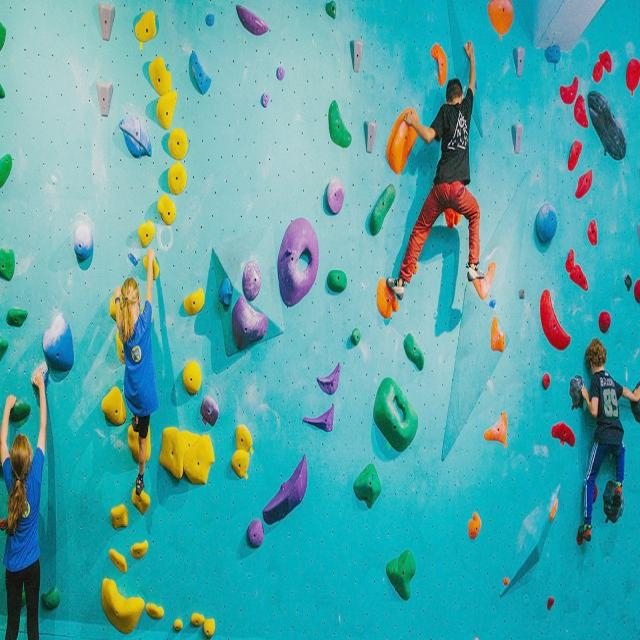blue: (42, 308, 83, 387), (115, 107, 155, 166), (60, 213, 102, 267), (185, 43, 214, 102), (200, 8, 219, 30)
green: (366, 368, 421, 456), (379, 544, 431, 614), (348, 456, 387, 513), (319, 89, 354, 151), (364, 180, 401, 236), (396, 329, 431, 372), (323, 254, 349, 301), (349, 320, 366, 356), (316, 0, 343, 22)
orange: (386, 98, 421, 175), (470, 258, 504, 305), (480, 0, 520, 39), (370, 278, 400, 327), (485, 406, 512, 453), (486, 308, 510, 358), (428, 34, 450, 86), (460, 507, 485, 552), (543, 493, 563, 523), (496, 574, 518, 591)
purple: (266, 203, 322, 317), (263, 455, 315, 533), (235, 279, 266, 362), (294, 400, 344, 441), (315, 170, 353, 218), (234, 0, 272, 43), (312, 358, 344, 406), (242, 250, 264, 300), (200, 385, 222, 428), (243, 516, 268, 551), (257, 75, 274, 114), (274, 64, 290, 79)
red: (534, 277, 572, 359), (545, 412, 585, 464), (572, 91, 596, 138), (568, 257, 591, 299), (575, 164, 598, 200), (558, 70, 580, 106), (622, 51, 640, 95), (588, 53, 608, 85), (596, 303, 616, 333), (566, 140, 586, 170), (598, 44, 616, 72), (586, 218, 601, 249), (542, 365, 552, 397), (565, 247, 575, 270)
yellow: (157, 418, 216, 494), (95, 567, 144, 640), (95, 377, 129, 439), (231, 417, 255, 484), (175, 274, 206, 324), (151, 186, 186, 226), (146, 55, 177, 99), (130, 4, 159, 50), (130, 198, 154, 248), (162, 127, 196, 161), (154, 88, 180, 131), (181, 350, 202, 400), (108, 496, 130, 542), (162, 160, 189, 196), (108, 543, 132, 583), (145, 592, 168, 633), (130, 532, 154, 570), (188, 598, 203, 636), (171, 609, 188, 640), (204, 616, 226, 638)
